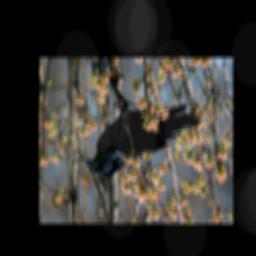Crow: (80, 78, 197, 180)
